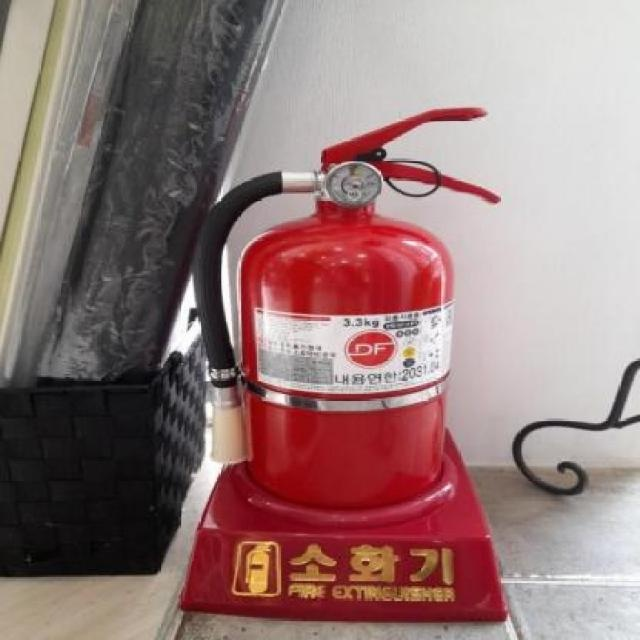fire extinguisher: (189, 105, 500, 507)
